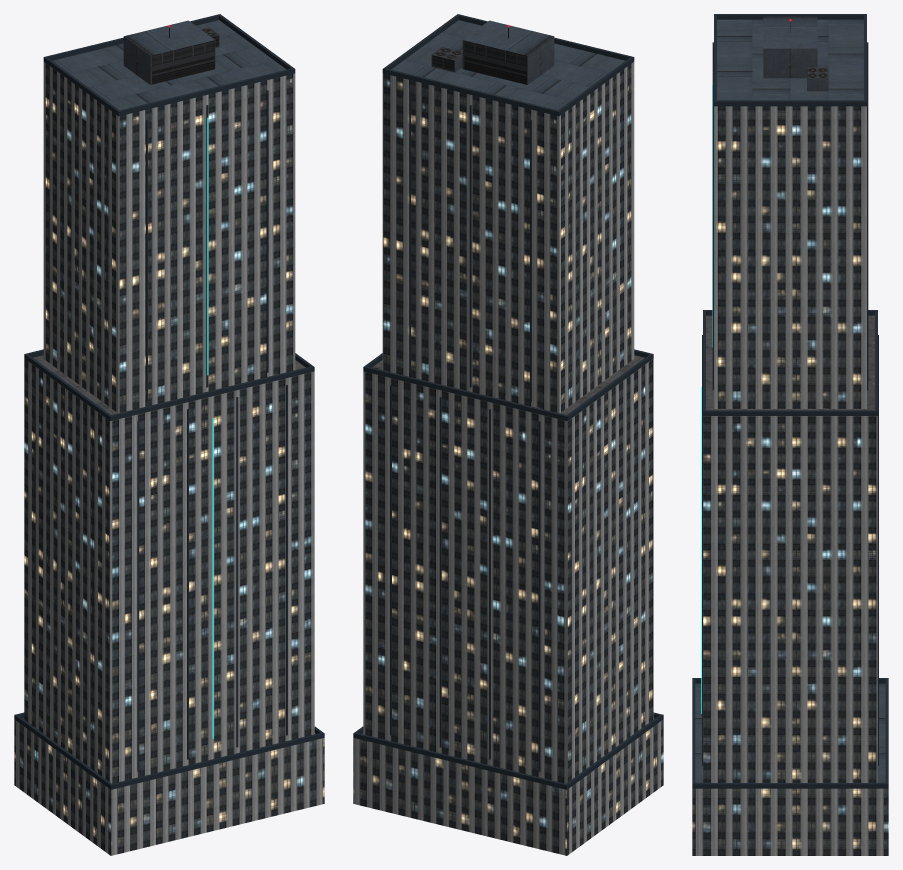
The model's file is commercial-tech-fins-02.glb.
3 views of the same model, side by side, from view 1: azimuth 30°, elevation 25°; view 2: azimuth 150°, elevation 25°; view 3: azimuth 270°, elevation 25° (orthographic).
Visible parts, largest first — view 1: commercial-tech-fins-02; view 2: commercial-tech-fins-02; view 3: commercial-tech-fins-02.
Boxes of the visible parts, left/top/right/bottom form: commercial-tech-fins-02: left=14, top=14, right=324, bottom=855; commercial-tech-fins-02: left=353, top=14, right=663, bottom=855; commercial-tech-fins-02: left=692, top=14, right=888, bottom=855.
Bounding box in the file's own units: 46 × 158 × 36.
1 material, 1 textured.
